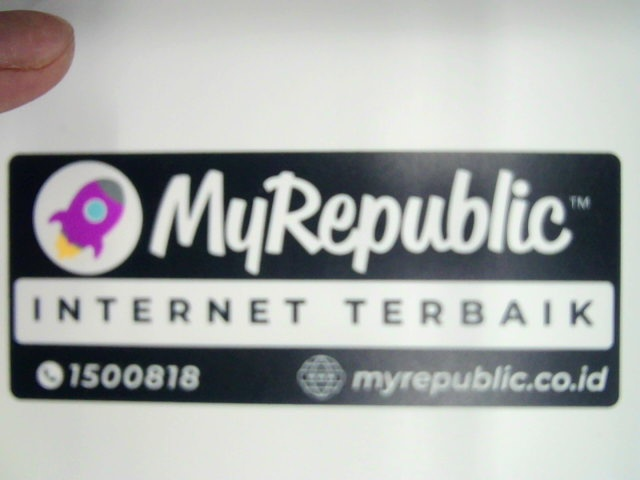BD_MyRepublic: (8, 152, 629, 410)
